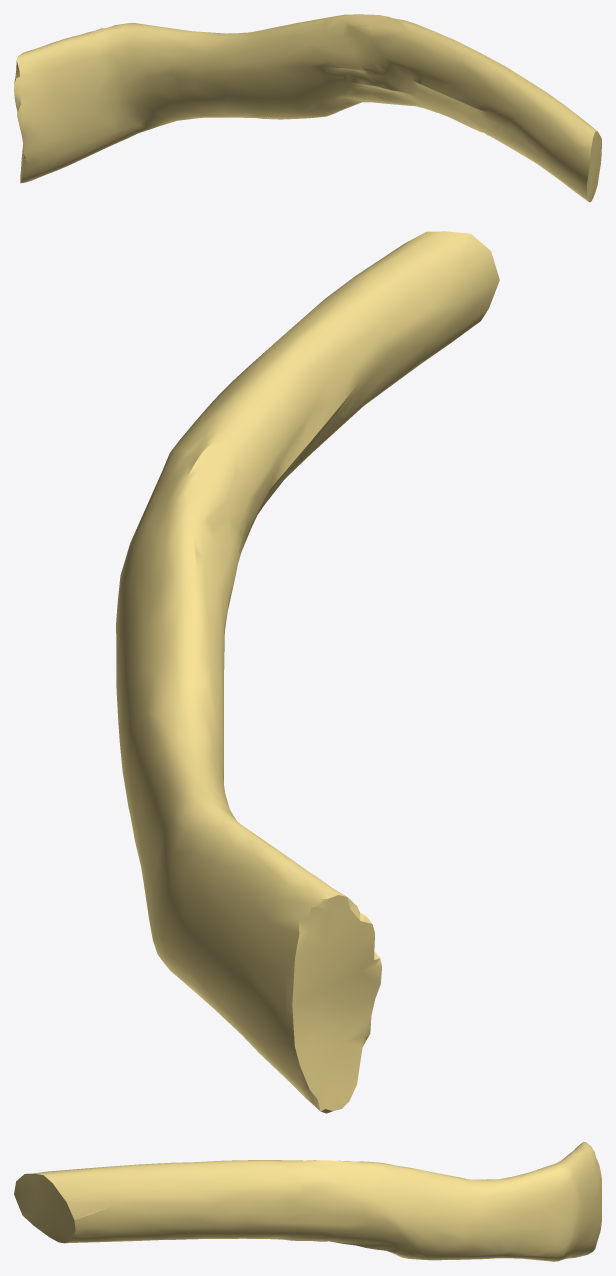
The model's file is fma52616_mm2695.glb.
3 views of the same model, one above another, from view 1: azimuth 30°, elevation 25°; view 2: azimuth 150°, elevation 25°; view 3: azimuth 270°, elevation 25° (orthographic). The views are drawn at different scales.
Visible parts, largest first — view 1: FMA52616_MM2695; view 2: FMA52616_MM2695; view 3: FMA52616_MM2695.
Part boxes in pixels (x1,y1,x2,y2): FMA52616_MM2695: (14,14,601,202); FMA52616_MM2695: (116,231,499,1113); FMA52616_MM2695: (14,1142,601,1261).
Size of the model in its own units: 0.00787 by 0.0056 by 0.0154.
